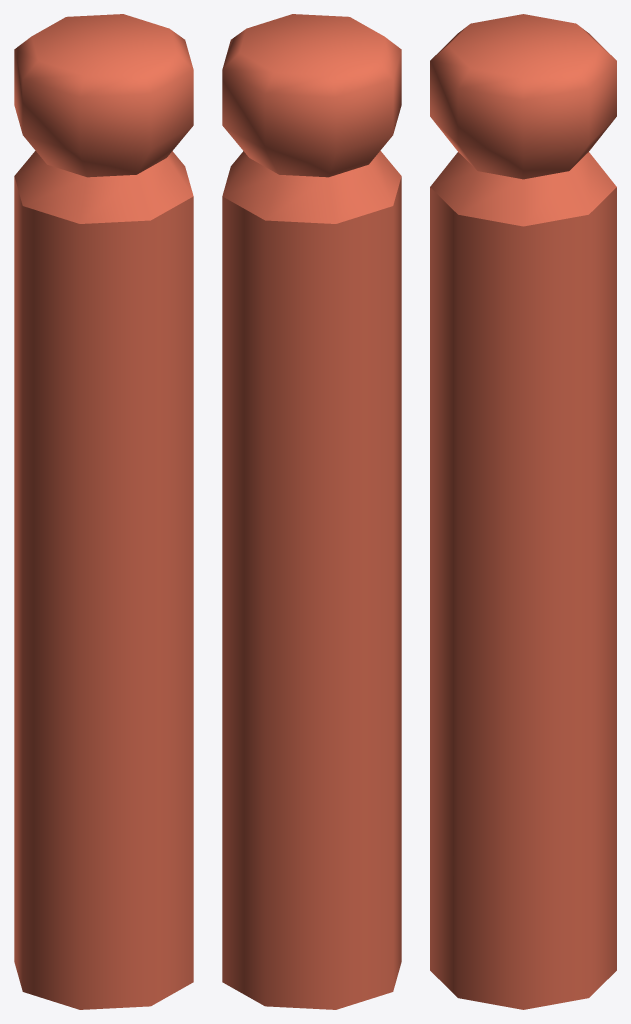
File: colimacon_pillier.fbx
3 renders of one model, left to right at view 1: azimuth 30°, elevation 25°; view 2: azimuth 150°, elevation 25°; view 3: azimuth 270°, elevation 25°, orthographic.
Parts seen in each view (by area): view 1: colimacon pillier; view 2: colimacon pillier; view 3: colimacon pillier.
Part boxes in pixels (x1=…): colimacon pillier: x1=14, y1=14, x2=193, y2=1009; colimacon pillier: x1=222, y1=14, x2=401, y2=1009; colimacon pillier: x1=430, y1=14, x2=616, y2=1009.
Bounding box in the file's own units: 24 × 131 × 24.
